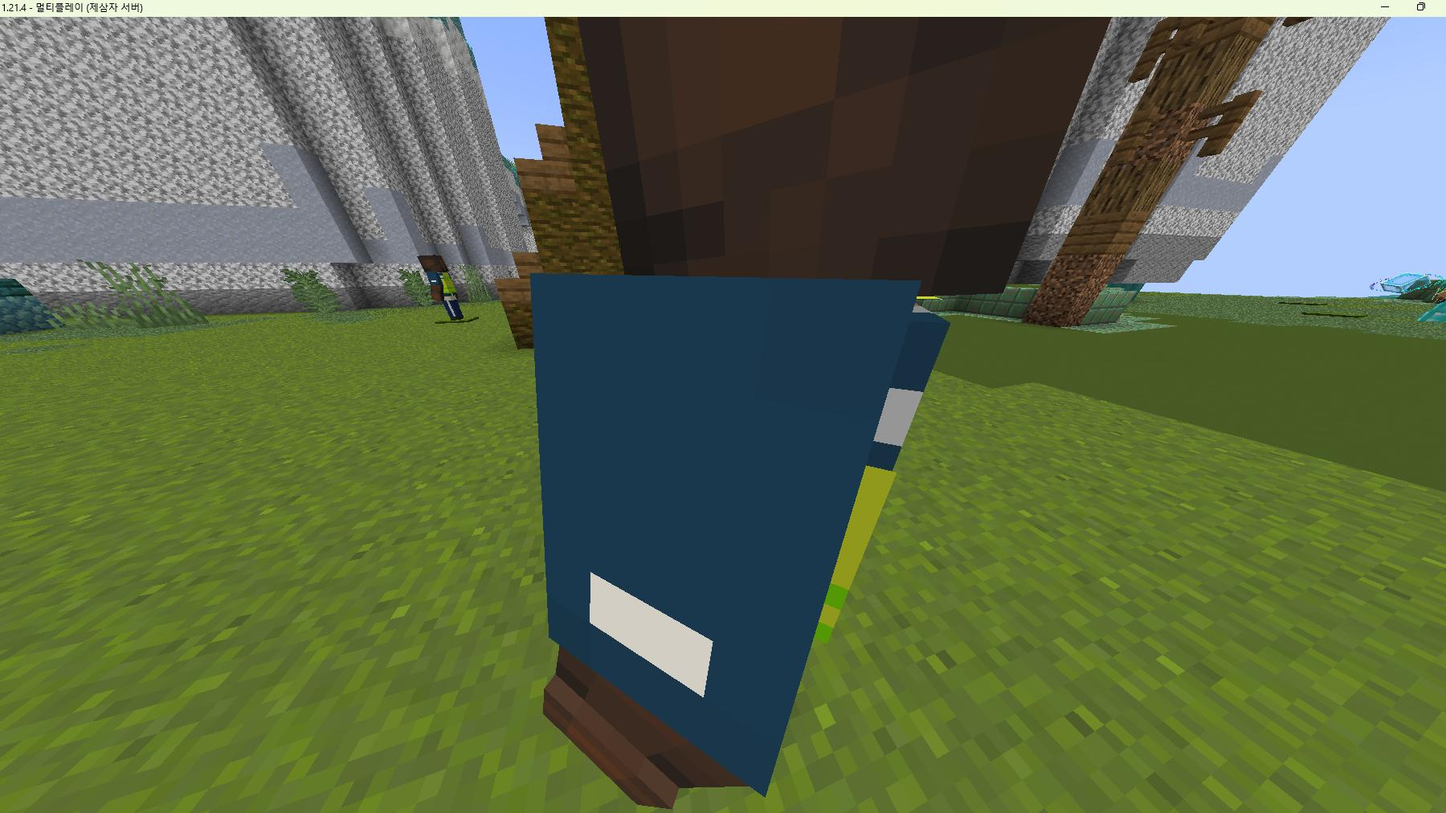Guardian: (503, 18, 1138, 807)
